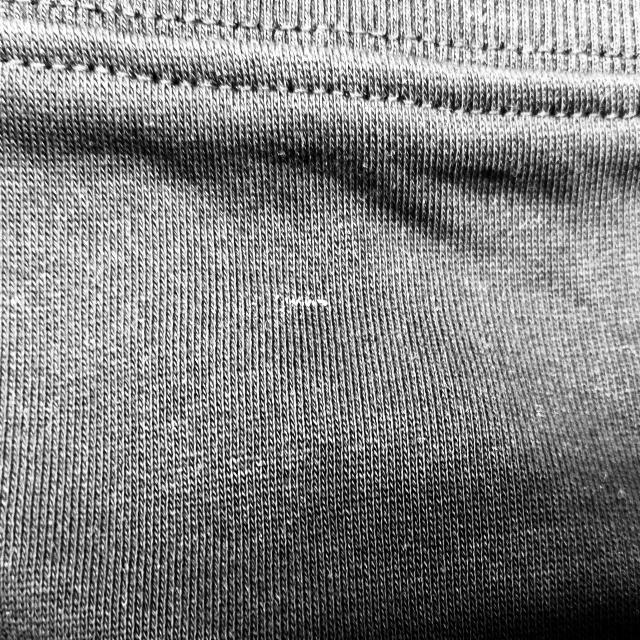Color_defect: (269, 283, 338, 320)
